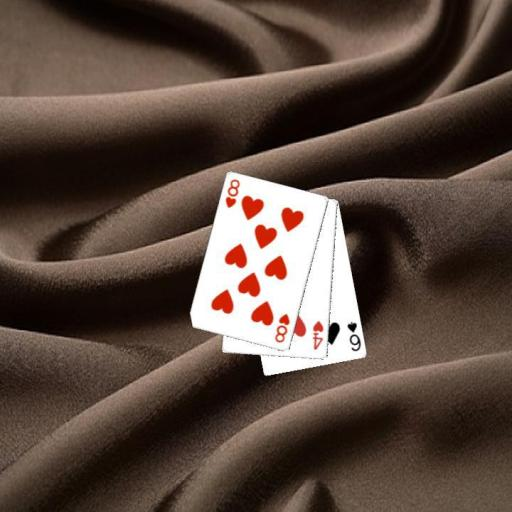4H: (309, 318, 325, 351)
6S: (344, 319, 363, 353)
8H: (272, 311, 292, 344), (222, 176, 241, 210)
